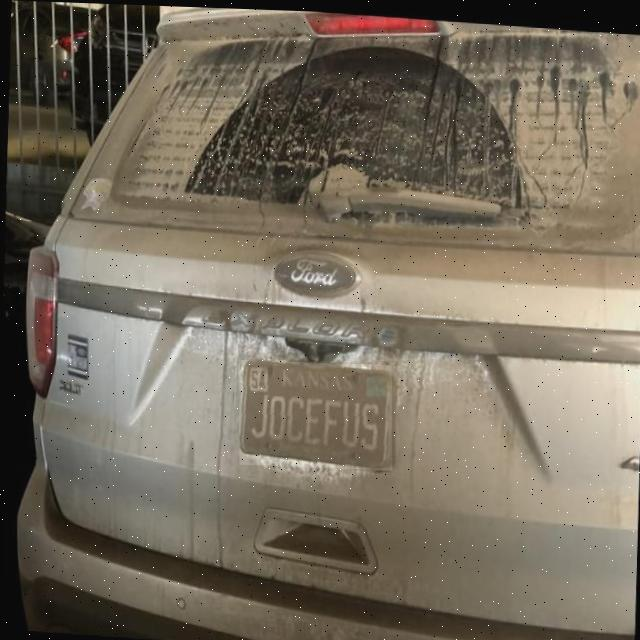LicensePlate: (239, 359, 391, 467)
